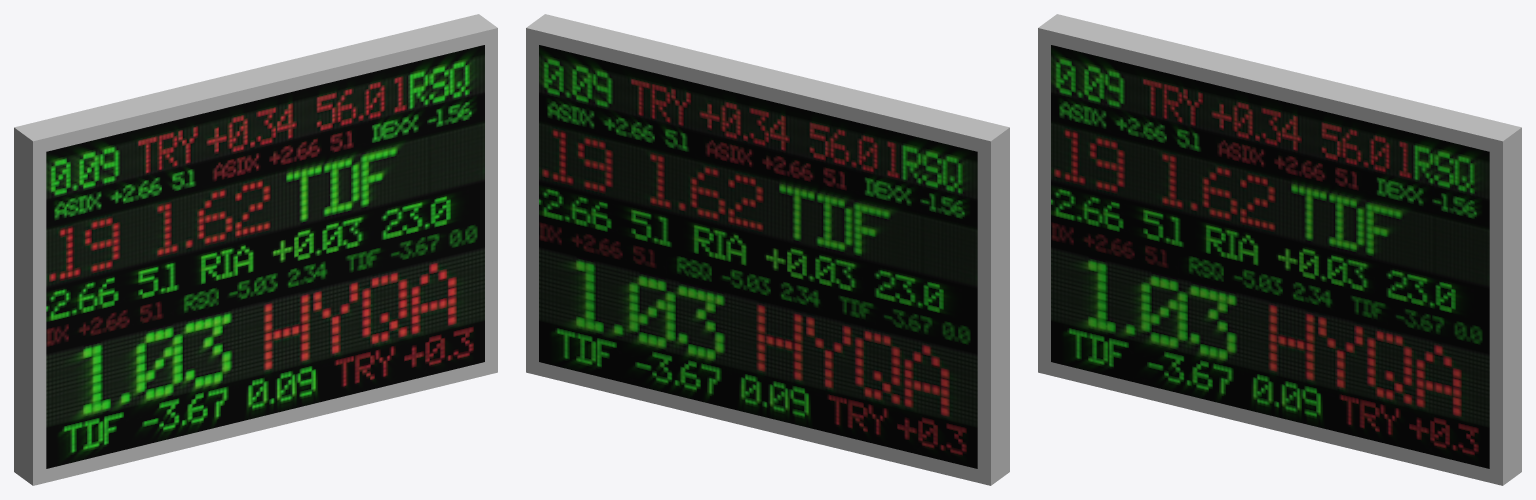
The model's file is Dynamic sign1.FBX.
3 views of the same model, side by side, from view 1: azimuth 30°, elevation 25°; view 2: azimuth 150°, elevation 25°; view 3: azimuth 330°, elevation 25° (orthographic).
Visible parts, largest first — view 1: ds1, sign frame1; view 2: ds1, sign frame1; view 3: ds1, sign frame1.
Boxes of the visible parts, <box> form: ds1: <box>46,45,484,468</box>; sign frame1: <box>14,14,497,485</box>; ds1: <box>539,45,977,468</box>; sign frame1: <box>526,14,1009,485</box>; ds1: <box>1051,45,1489,468</box>; sign frame1: <box>1038,14,1521,485</box>.
Bounding box in the file's own units: 35.49 × 25.14 × 2.52.
